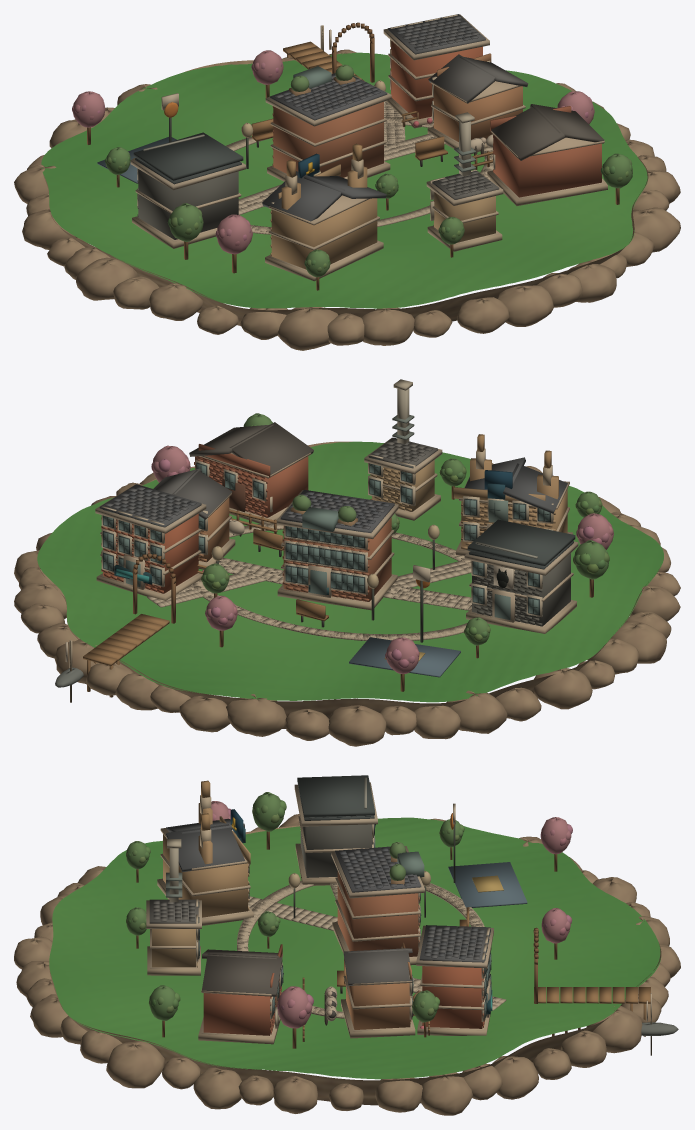
File: island-terrain.glb
The picture shows the model from 3 angles, top to bottom: view 1: azimuth 30°, elevation 25°; view 2: azimuth 150°, elevation 25°; view 3: azimuth 270°, elevation 25°; orthographic projection.
Parts seen in each view (by area): view 1: Blender Island | meadow and sculpted coast; view 2: Blender Island | meadow and sculpted coast; view 3: Blender Island | meadow and sculpted coast.
Boxes of the visible parts, x1=… form: Blender Island | meadow and sculpted coast: x1=14, y1=14, x2=680, y2=350; Blender Island | meadow and sculpted coast: x1=14, y1=379, x2=680, y2=746; Blender Island | meadow and sculpted coast: x1=14, y1=775, x2=680, y2=1115.
Bounding box in the file's own units: 25.59 × 7.06 × 25.51.
